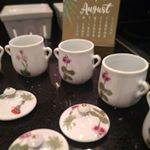cups: (95, 51, 150, 110), (52, 38, 101, 86), (5, 34, 55, 79)
